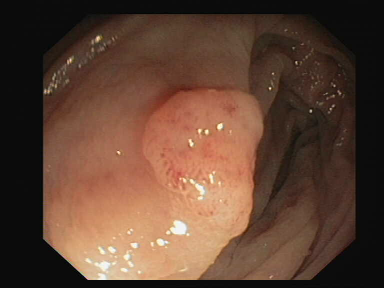polyp: (131, 63, 295, 228)
